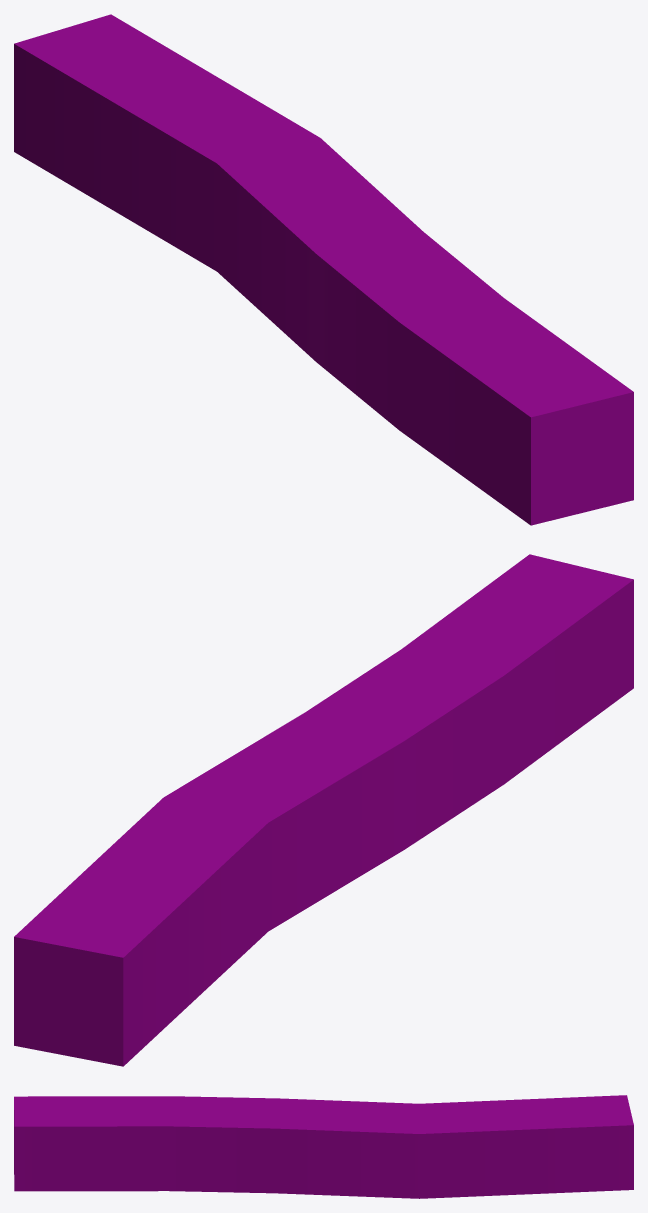
File: Carrot4.FBX
The picture shows the model from 3 angles, top to bottom: view 1: azimuth 30°, elevation 25°; view 2: azimuth 150°, elevation 25°; view 3: azimuth 270°, elevation 25°; orthographic projection. The views are drawn at different scales.
Parts seen in each view (by area): view 1: Carrot_4; view 2: Carrot_4; view 3: Carrot_4.
Part boxes in pixels (x1,y1,x2,y2): Carrot_4: [14, 14, 633, 525]; Carrot_4: [14, 554, 633, 1066]; Carrot_4: [14, 1095, 633, 1198].
Size of the model in its own units: 1.4 by 1.09 by 9.42.
